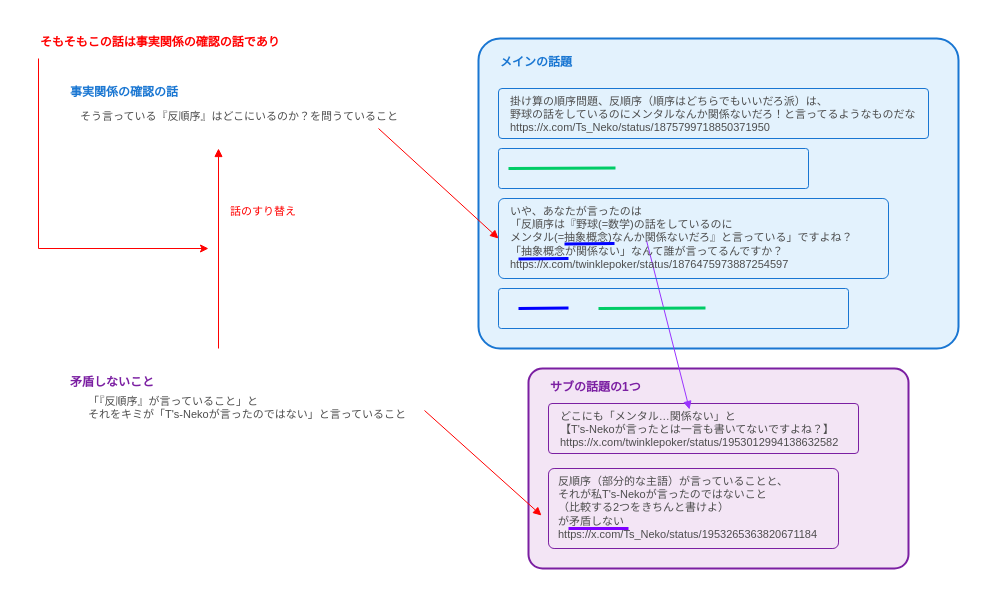
Some shapes in this 998 by 608 pixel diagram are drawn without their labels. The centre of each missing label's shape, as x and y in pixels:
"「抽象概念」と「抽象概念を学ぶこと」のどちらを示せばいい？ https://x.com/ts_neko/status/1953612582490931465" goes at (x=673, y=308).
"抽象概念を学ぶことをメンタルにたとえています。 https://x.com/Ts_Neko/status/1876147337661407295" goes at (x=653, y=168).
